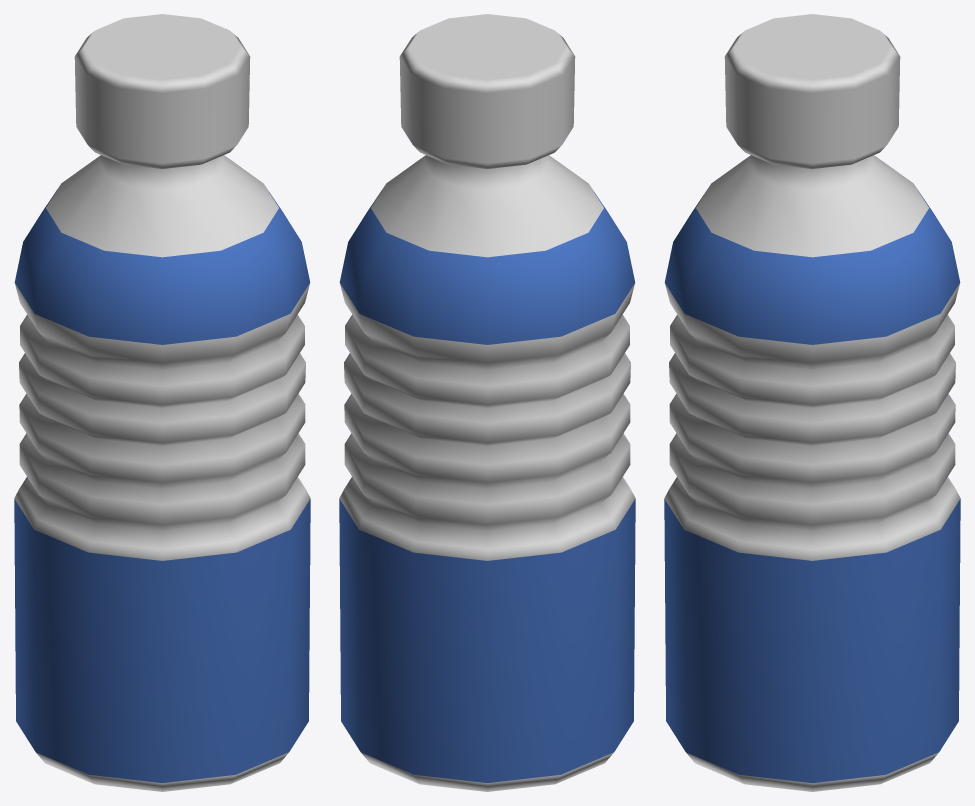
Rendered from SM_WaterBottle.fbx.
The picture shows the model from 3 angles, left to right: view 1: azimuth 30°, elevation 25°; view 2: azimuth 150°, elevation 25°; view 3: azimuth 270°, elevation 25°; orthographic projection.
Parts seen in each view (by area): view 1: SM_bottle, SM_cap; view 2: SM_bottle, SM_cap; view 3: SM_bottle, SM_cap.
Part boxes in pixels (x1,y1,x2,y2): SM_bottle: [14, 155, 310, 791]; SM_cap: [74, 14, 250, 168]; SM_bottle: [339, 155, 635, 791]; SM_cap: [399, 14, 575, 168]; SM_bottle: [664, 155, 960, 791]; SM_cap: [724, 14, 900, 168].
Bounding box in the file's own units: 8.52 × 21.84 × 8.52.
